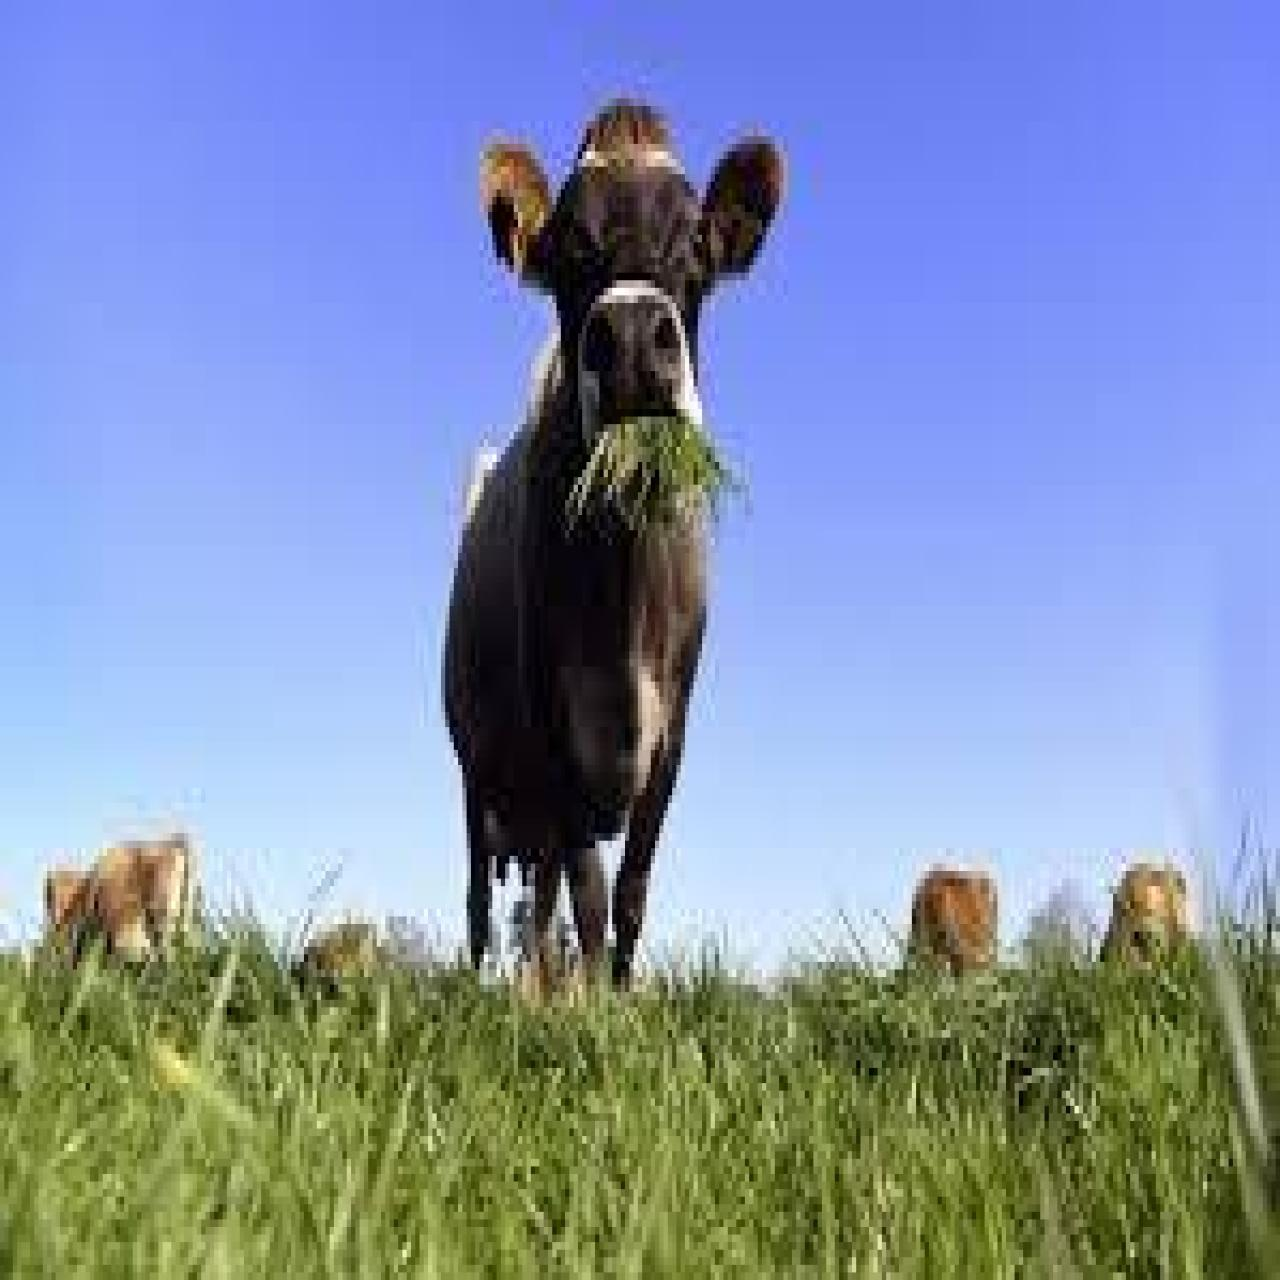cow: (438, 95, 785, 1012)
